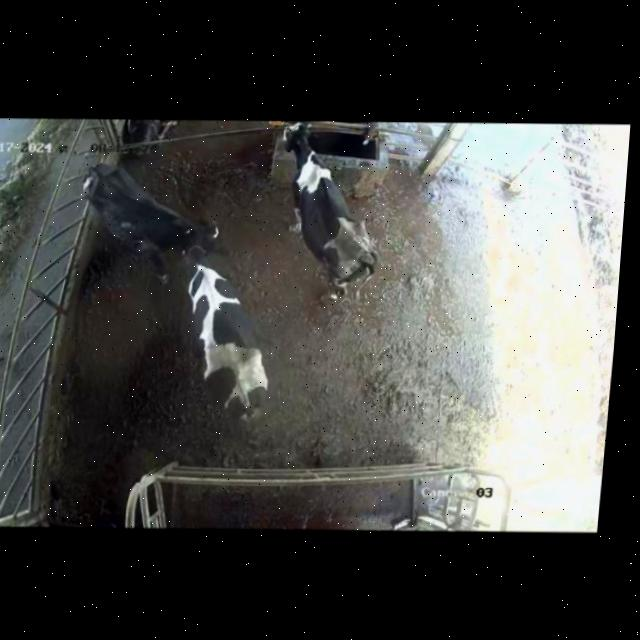drink: (272, 118, 349, 195)
stand: (156, 219, 290, 427), (74, 153, 229, 265)
